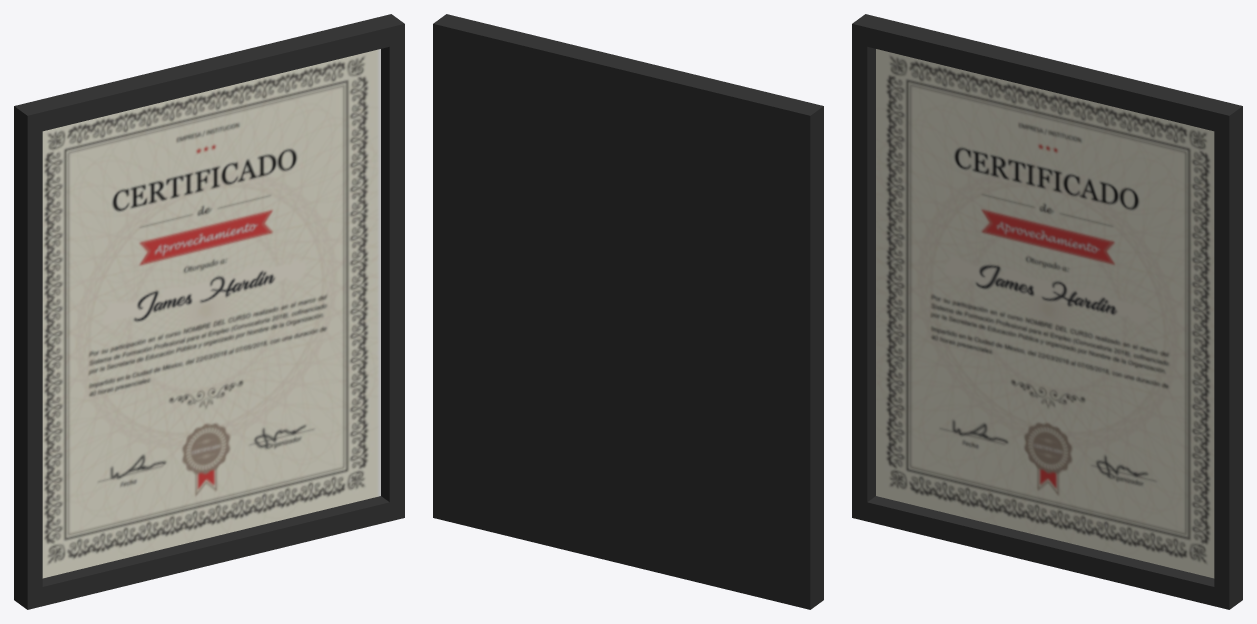
The model's file is Certificate 5.FBX.
3 views of the same model, side by side, from view 1: azimuth 30°, elevation 25°; view 2: azimuth 150°, elevation 25°; view 3: azimuth 330°, elevation 25° (orthographic).
Parts seen in each view (by area): view 1: Certificate 5; view 2: Certificate 5; view 3: Certificate 5.
Part boxes in pixels (<box>): Certificate 5: <box>14,14,404,609</box>; Certificate 5: <box>433,14,823,609</box>; Certificate 5: <box>852,14,1242,609</box>.
Bounding box in the file's own units: 37.25 × 46.61 × 2.29.
Materials: 1 (1 with a texture image).
